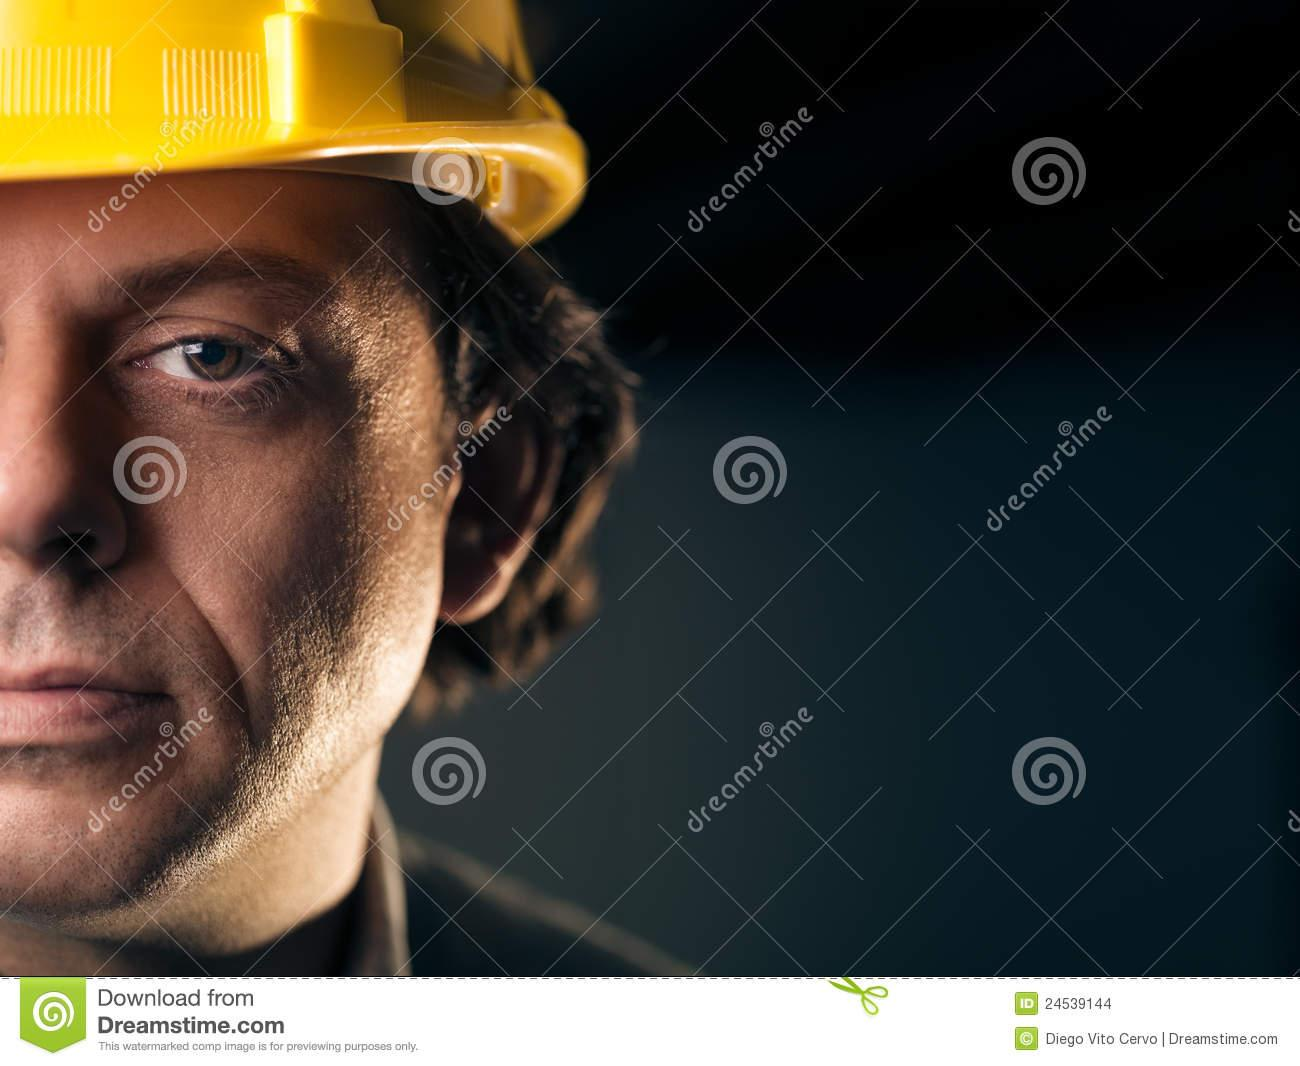helmet: (1, 1, 599, 244)
